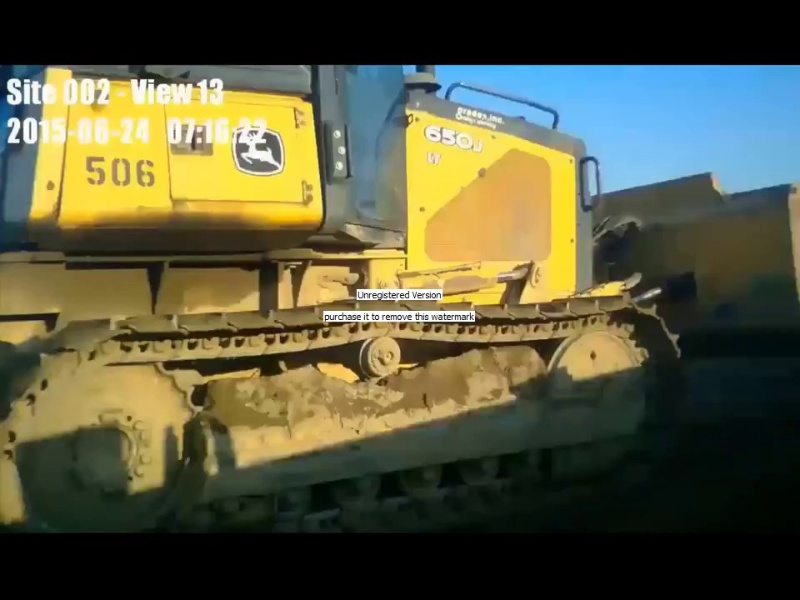excavator: (1, 65, 690, 533)
